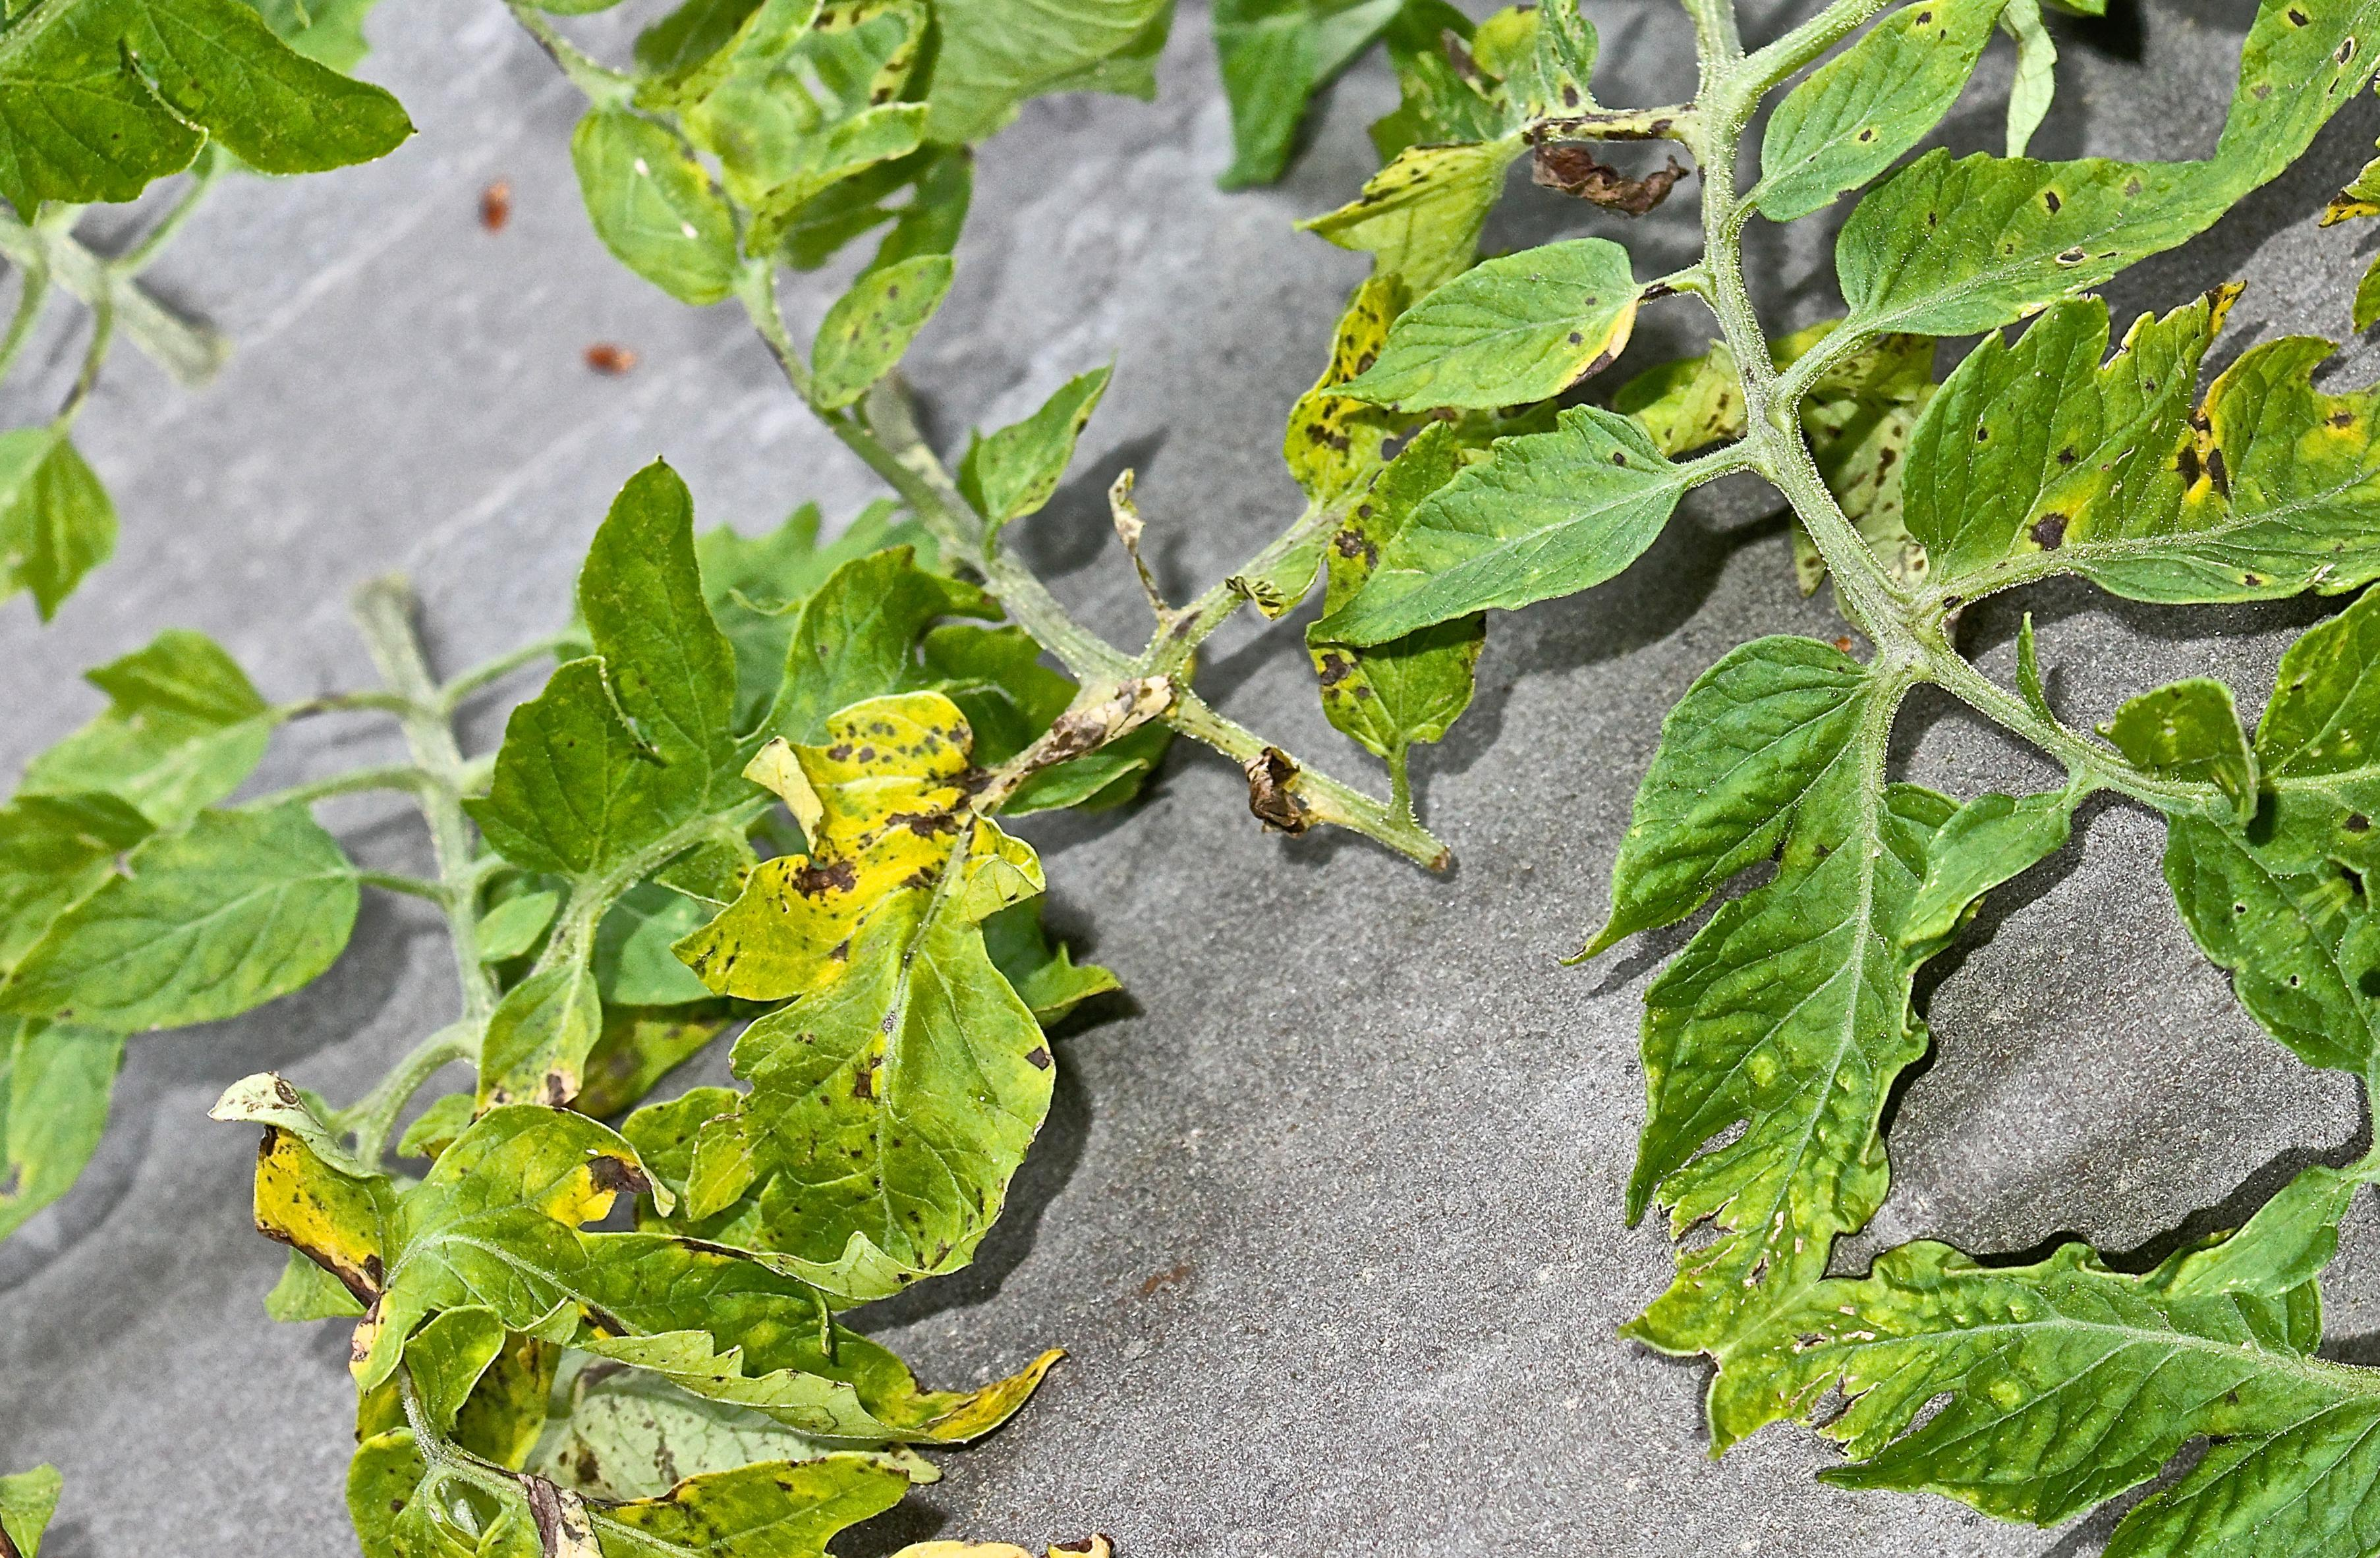Tomato Septoria leaf spot: (1337, 594, 2169, 1403), (552, 636, 1261, 1337), (1829, 174, 2380, 805), (483, 1210, 1155, 1558)
